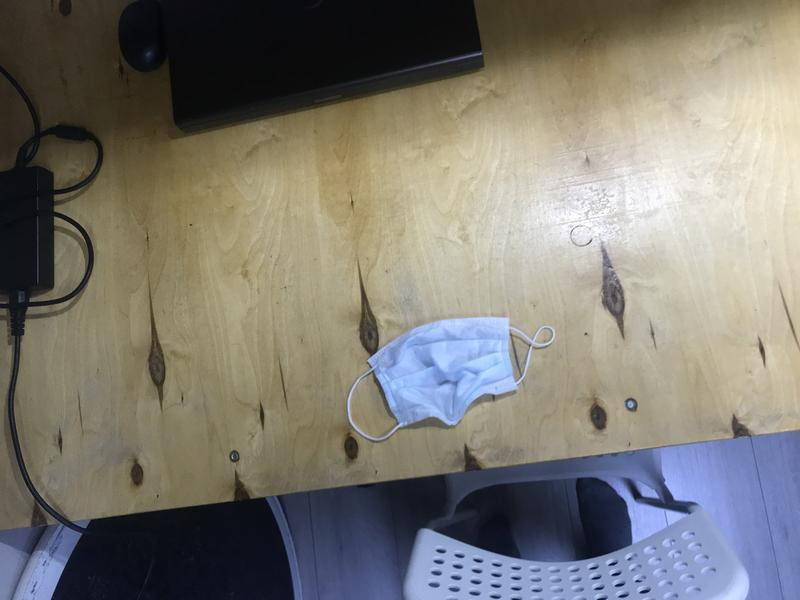medical_mask: (346, 318, 556, 442)
